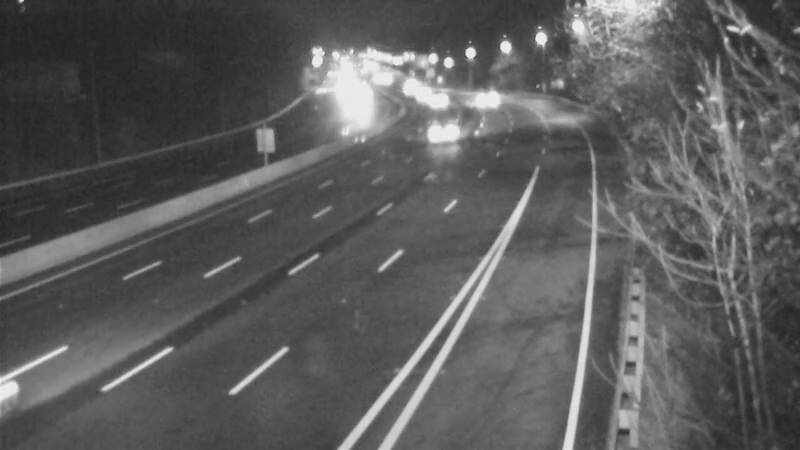vehicle: (385, 66, 435, 116), (399, 69, 449, 119), (410, 75, 460, 125), (461, 76, 511, 126), (420, 106, 470, 156), (335, 77, 385, 127)
